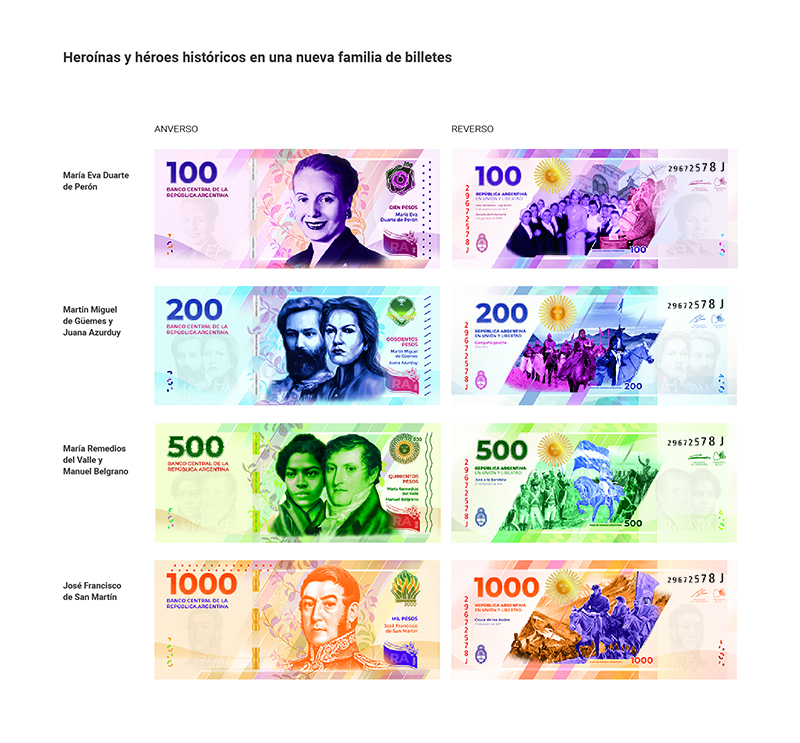Nota desconhecida: (153, 417, 445, 549), (150, 145, 445, 274), (150, 556, 445, 683), (152, 280, 443, 408)
